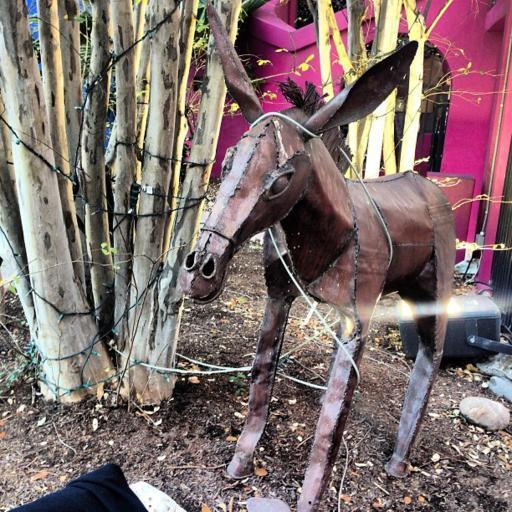horse: (180, 2, 457, 512)
